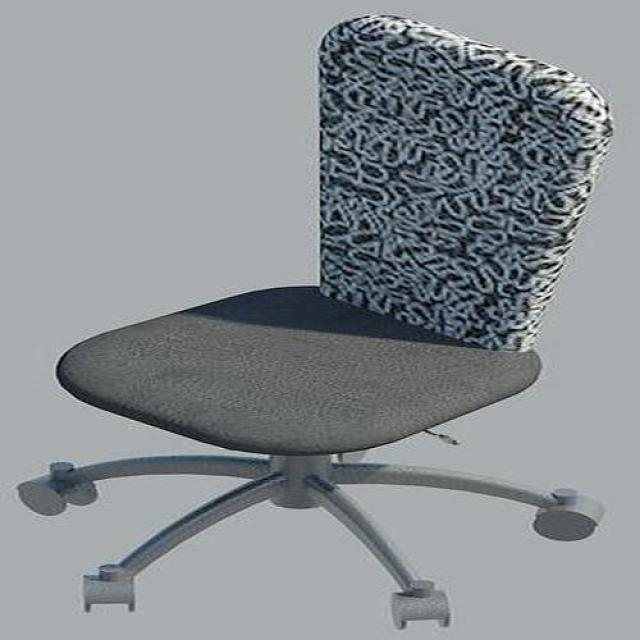swivelchair: (15, 15, 614, 632)
